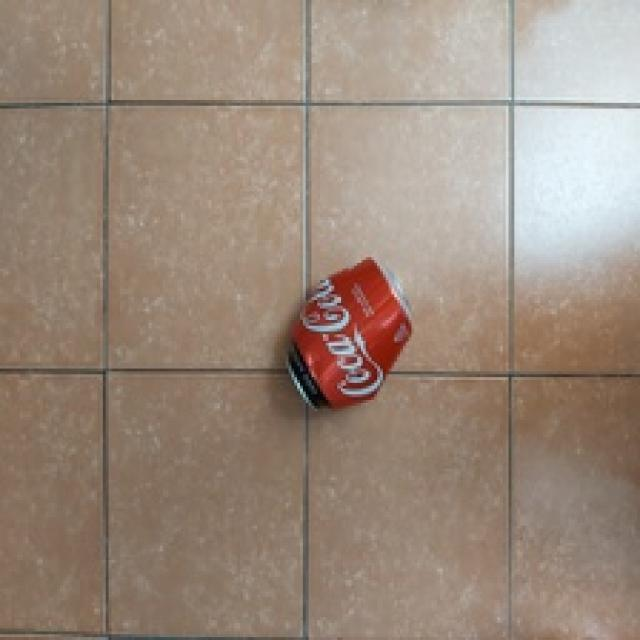recyclable: (282, 257, 413, 412)
